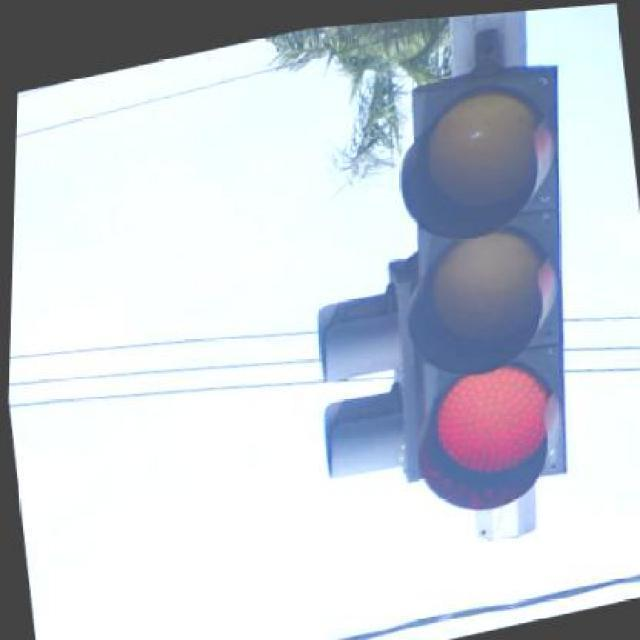red_light: (389, 14, 564, 536)
